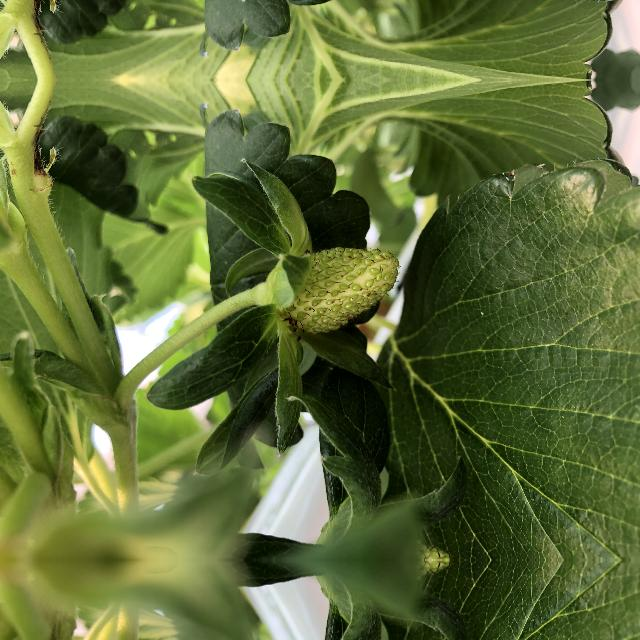Health_25: (280, 243, 402, 334)
